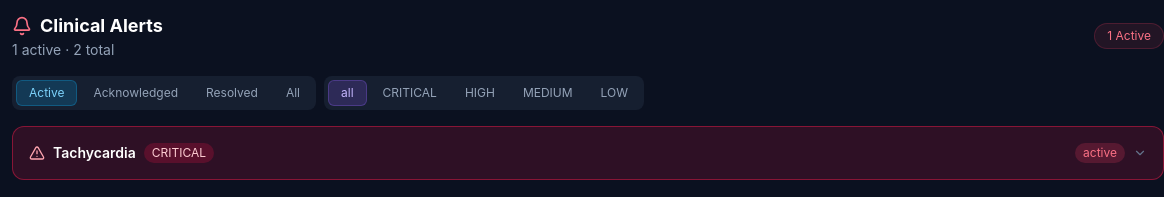
Test: AlertPanel Component › filters alerts when clicking filter button
Step 1. Click the button "acknowledged" → (136, 93), box [82,80,190,106]
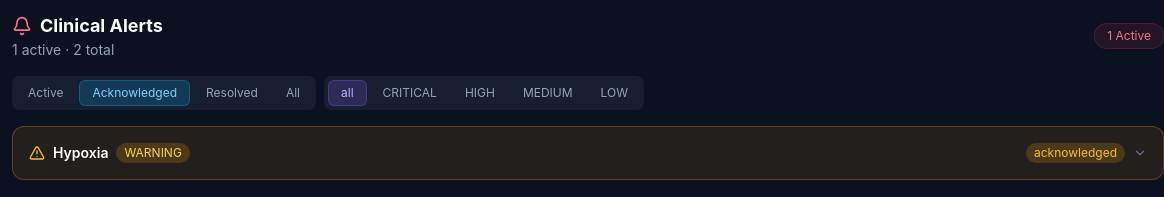
Expected: the text "Hypoxia" is shown, [53,143,108,163]
Expected: the text "Tachycardia" is gone
